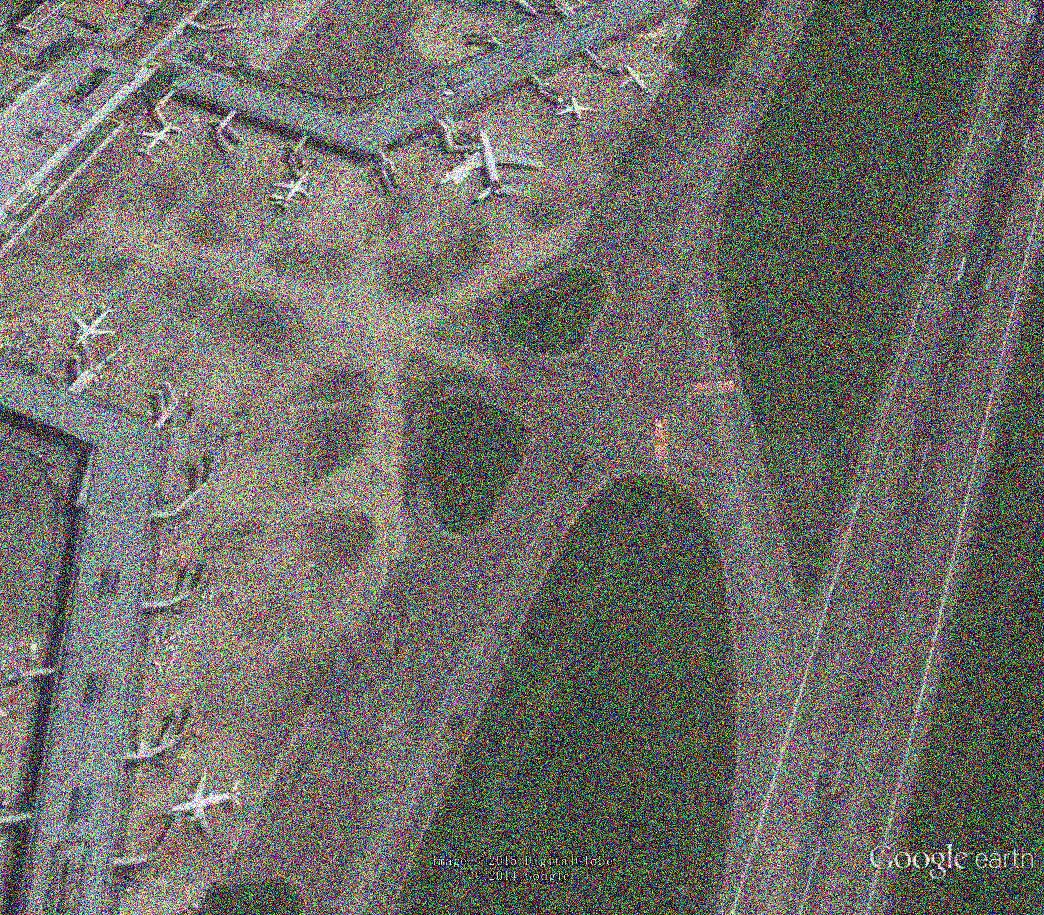aircraft: (433, 127, 552, 204), (162, 765, 246, 842), (267, 167, 320, 214), (72, 303, 121, 350), (611, 62, 662, 99), (553, 95, 606, 128), (134, 120, 176, 160)
